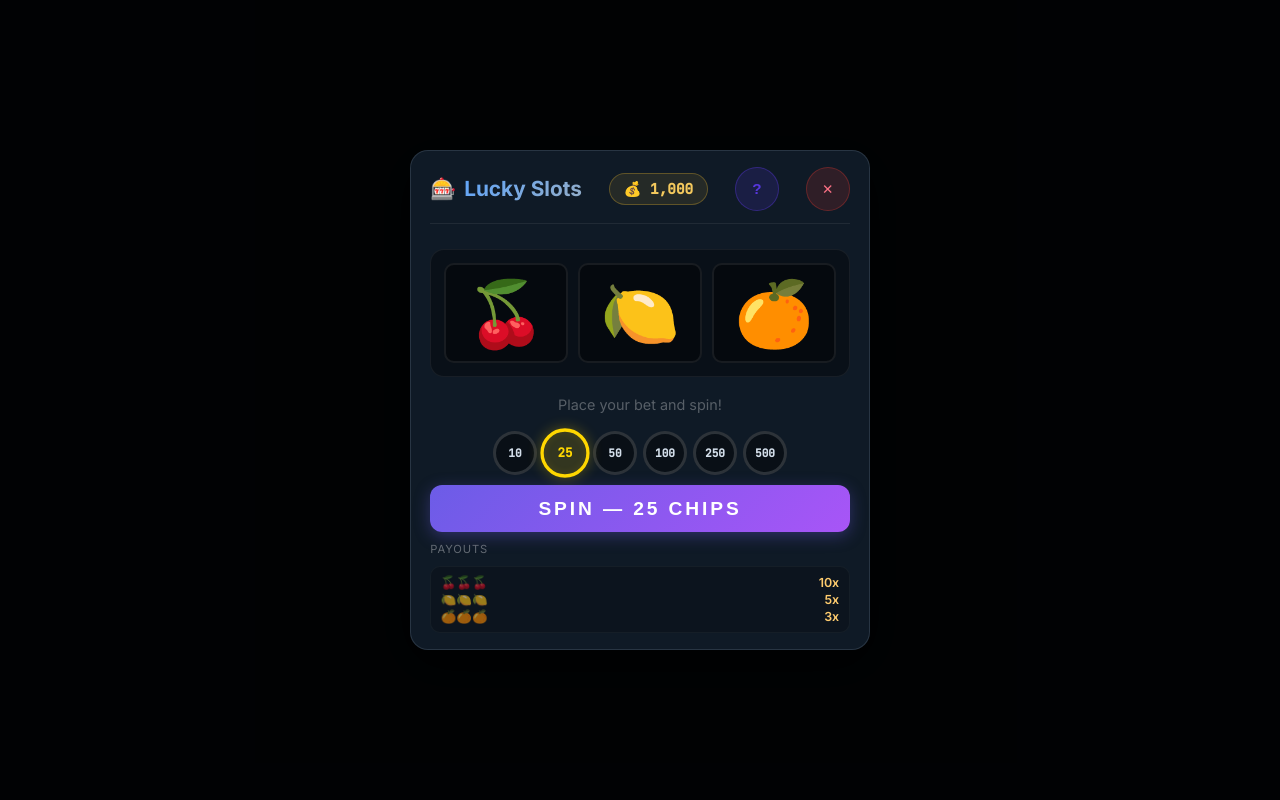
Test case: SlotsBoard › spin › shows win result after spin completes
Click the button "SPIN — 25 chips". click: (640, 509)
box: [430,485,850,532]
Wait 1600 ms
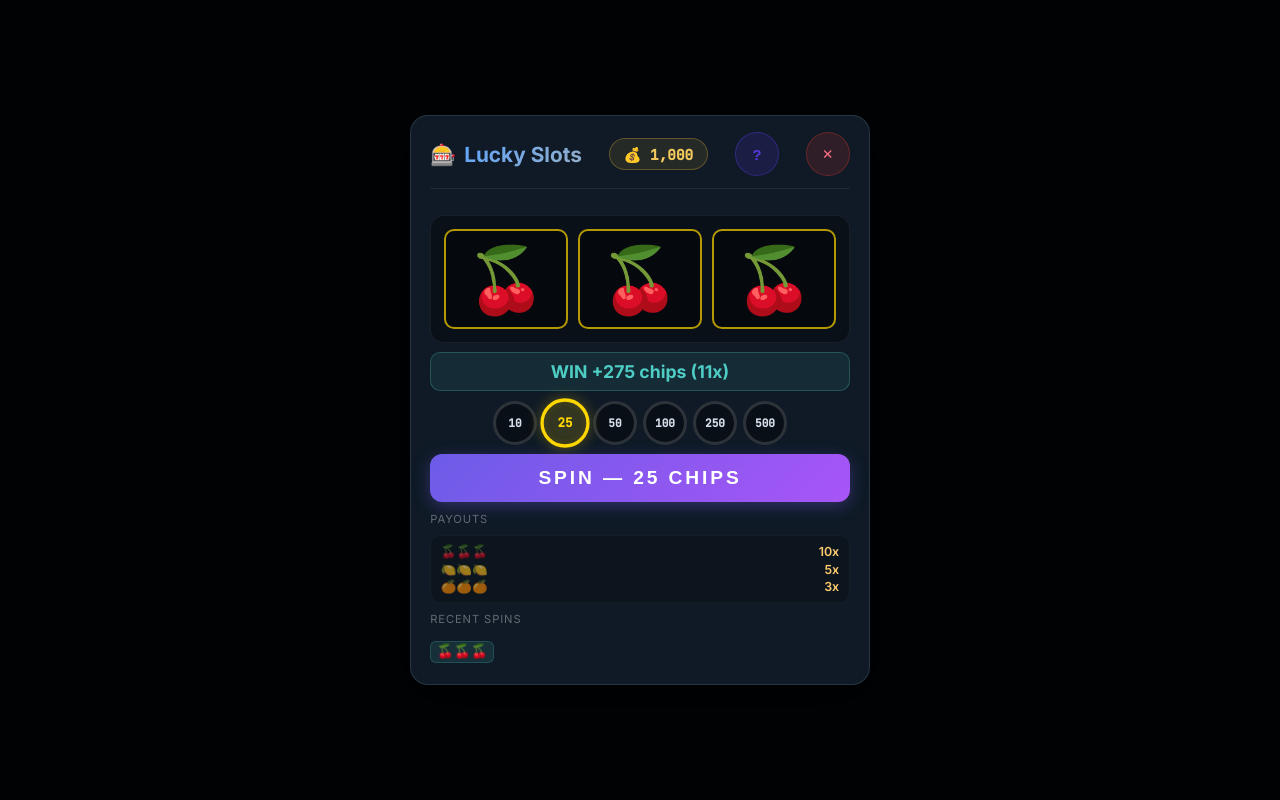
Result: the text "WIN +275 chips (11x)" is shown at [430,352,850,391]
